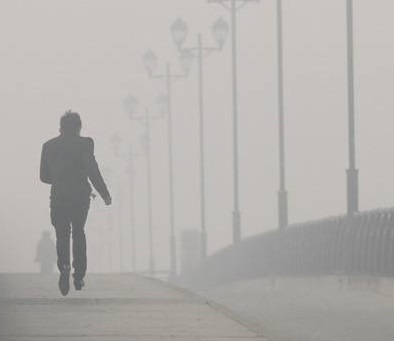person: (37, 107, 114, 296), (34, 231, 55, 274)
